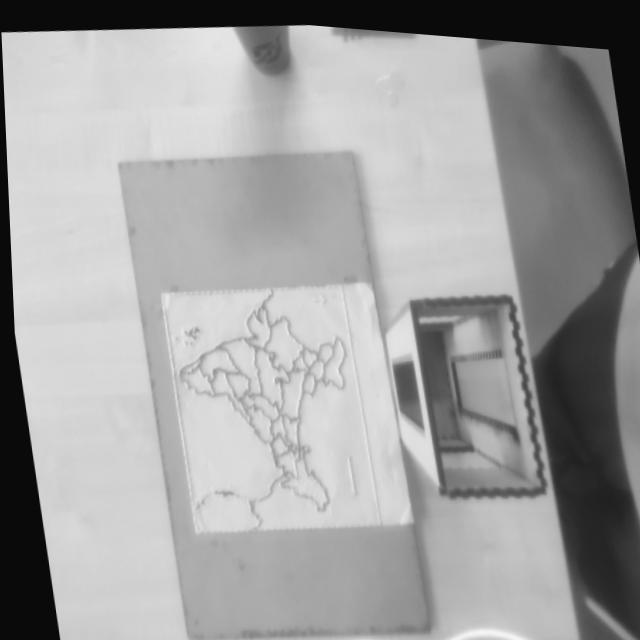map: (158, 265, 380, 555)
